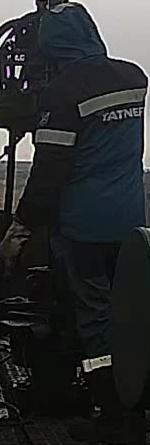gloves: (0, 217, 33, 275)
vest: (32, 55, 150, 245)
